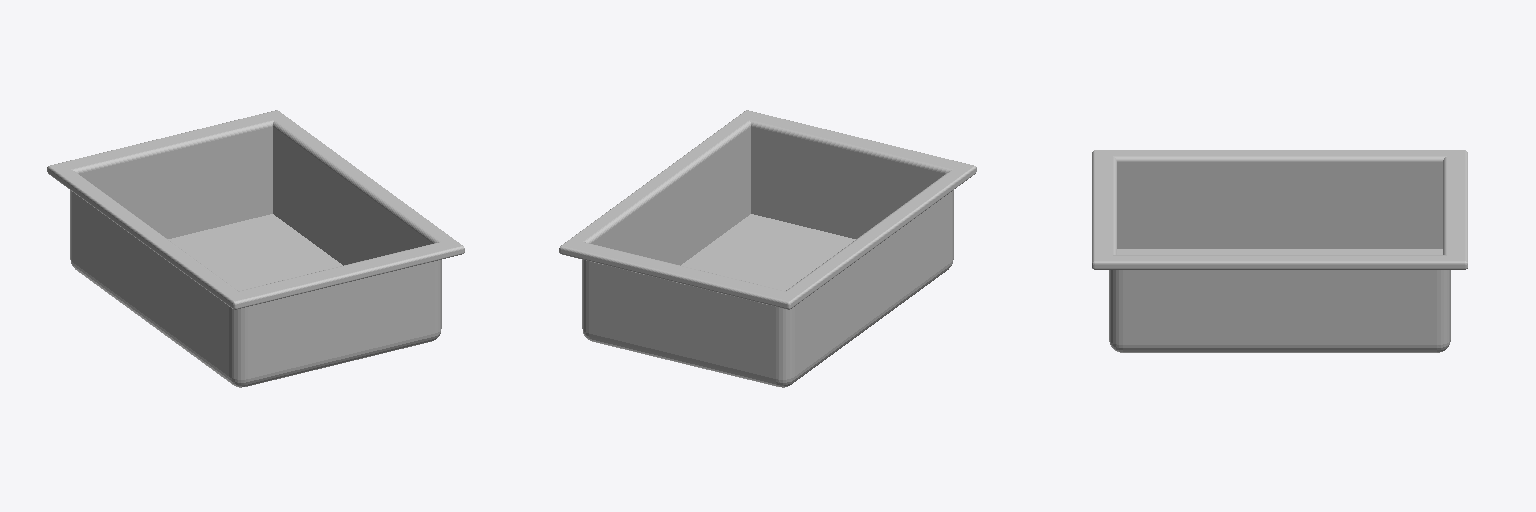
Rendered from Container.obj.
The picture shows the model from 3 angles: view 1: azimuth 30°, elevation 25°; view 2: azimuth 150°, elevation 25°; view 3: azimuth 270°, elevation 25°; orthographic projection.
Parts seen in each view (by area): view 1: Cube; view 2: Cube; view 3: Cube.
Boxes of the visible parts, box(x1,y1,x2,y2) form: Cube: box(47, 110, 464, 387); Cube: box(559, 110, 976, 387); Cube: box(1092, 150, 1467, 352).
Size of the model in its own units: 1.56 by 0.6471 by 2.2.